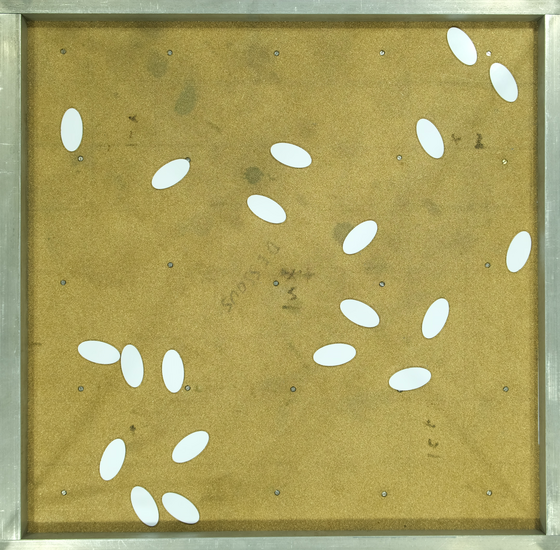pallet: (44, 104, 97, 155), (155, 343, 208, 394), (384, 351, 437, 402), (310, 333, 363, 384), (332, 283, 385, 334), (408, 293, 461, 344), (487, 225, 540, 276), (333, 209, 386, 260), (483, 58, 536, 109), (432, 21, 485, 72), (400, 115, 453, 166), (240, 185, 293, 236), (264, 127, 317, 178), (144, 147, 197, 198), (160, 477, 213, 528), (85, 432, 138, 483), (163, 419, 216, 470), (67, 323, 120, 374), (121, 481, 164, 532), (113, 339, 152, 389)
